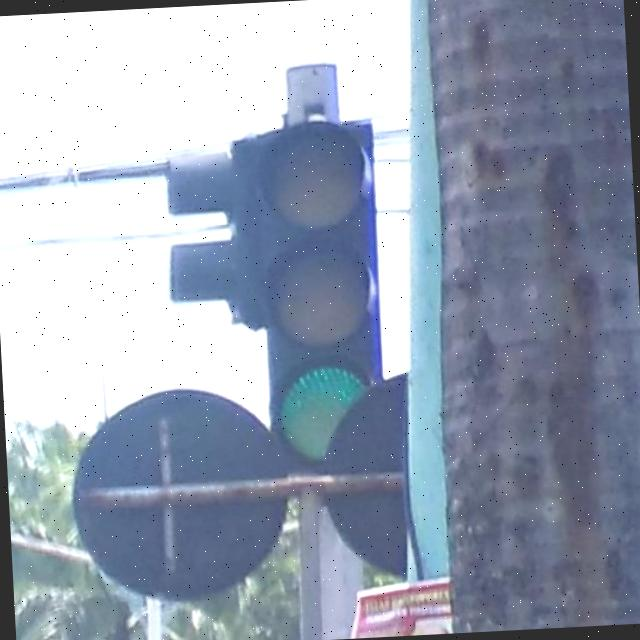green_light: (252, 125, 388, 472)
